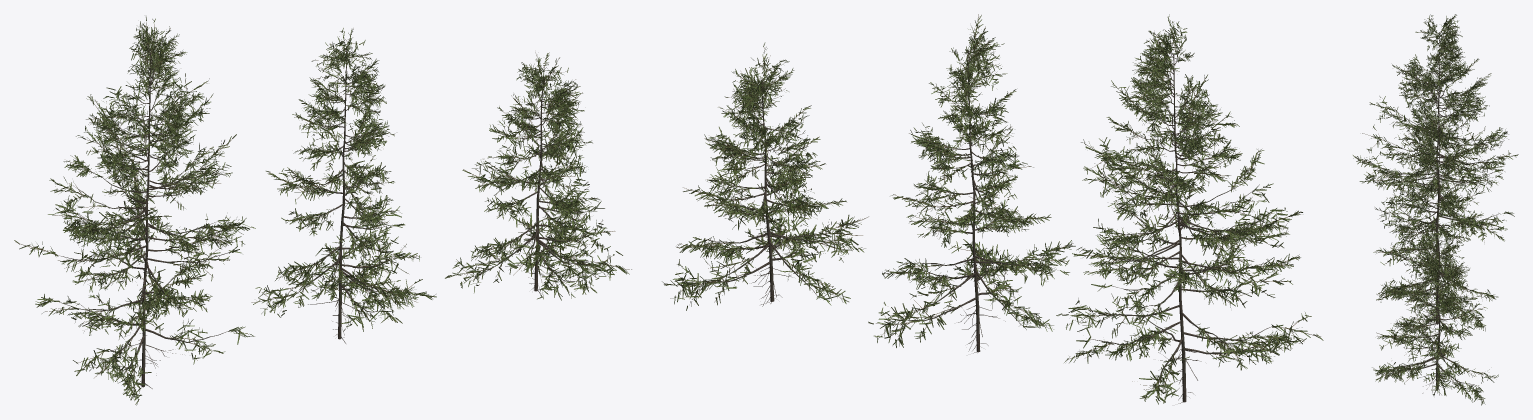
File: sapling_near.glb
The picture shows the model from 3 angles, left to right: view 1: azimuth 30°, elevation 25°; view 2: azimuth 150°, elevation 25°; view 3: azimuth 270°, elevation 25°; orthographic projection. The views are drawn at different scales.
Parts seen in each view (by area): view 1: fir_sapling_medium_a_LOD0, fir_sapling_medium_b_LOD0, fir_sapling_medium_c_LOD0; view 2: fir_sapling_medium_a_LOD0, fir_sapling_medium_b_LOD0, fir_sapling_medium_c_LOD0; view 3: fir_sapling_medium_a_LOD0, fir_sapling_medium_c_LOD0, fir_sapling_medium_b_LOD0.
Boxes of the visible parts, x1,y1,x2,y2 form: fir_sapling_medium_a_LOD0: (14, 16, 255, 405); fir_sapling_medium_b_LOD0: (251, 28, 436, 343); fir_sapling_medium_c_LOD0: (445, 52, 631, 300); fir_sapling_medium_a_LOD0: (1056, 14, 1323, 404); fir_sapling_medium_b_LOD0: (868, 14, 1075, 353); fir_sapling_medium_c_LOD0: (662, 42, 868, 310); fir_sapling_medium_a_LOD0: (1353, 14, 1518, 262); fir_sapling_medium_c_LOD0: (1372, 226, 1498, 405); fir_sapling_medium_b_LOD0: (1373, 108, 1498, 331).
Bounding box in the file's own units: 14.71 × 8.9 × 5.31.
Materials: 3 (3 with a texture image).
